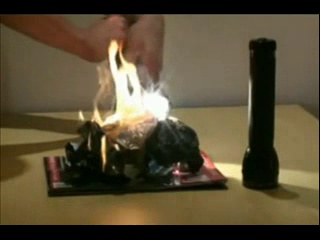fire: (87, 38, 137, 171)
smoke: (136, 72, 171, 123)
